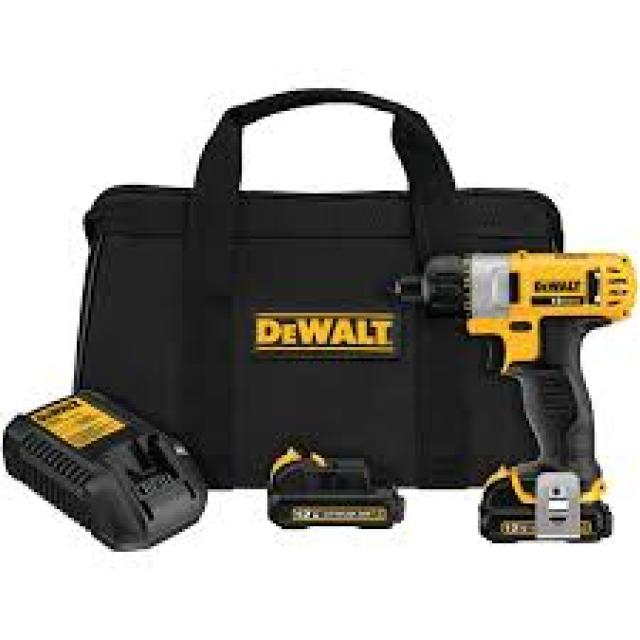driller: (399, 253, 634, 543)
